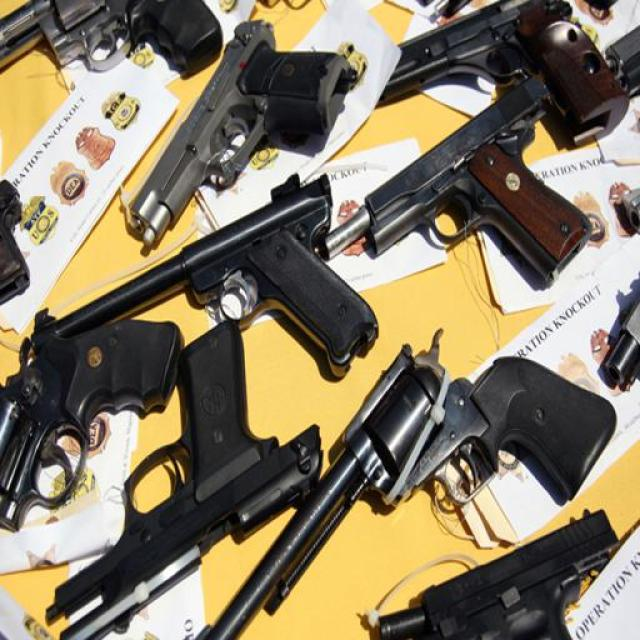pistol: (190, 320, 626, 635), (45, 321, 330, 632), (29, 175, 380, 377), (117, 12, 365, 260), (326, 74, 594, 284), (1, 302, 180, 545), (370, 1, 634, 152), (2, 1, 221, 125)
